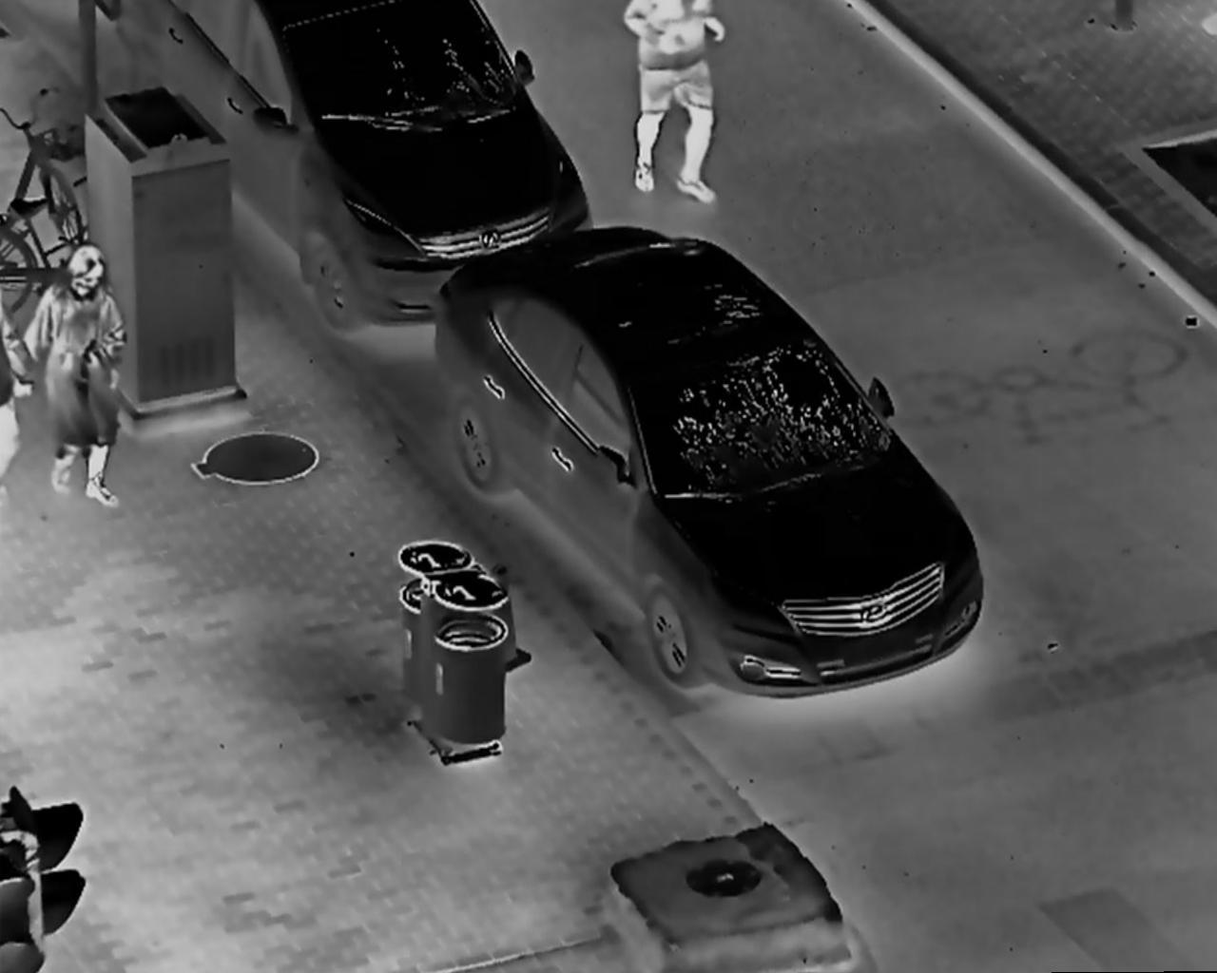person: (24, 244, 127, 508)
